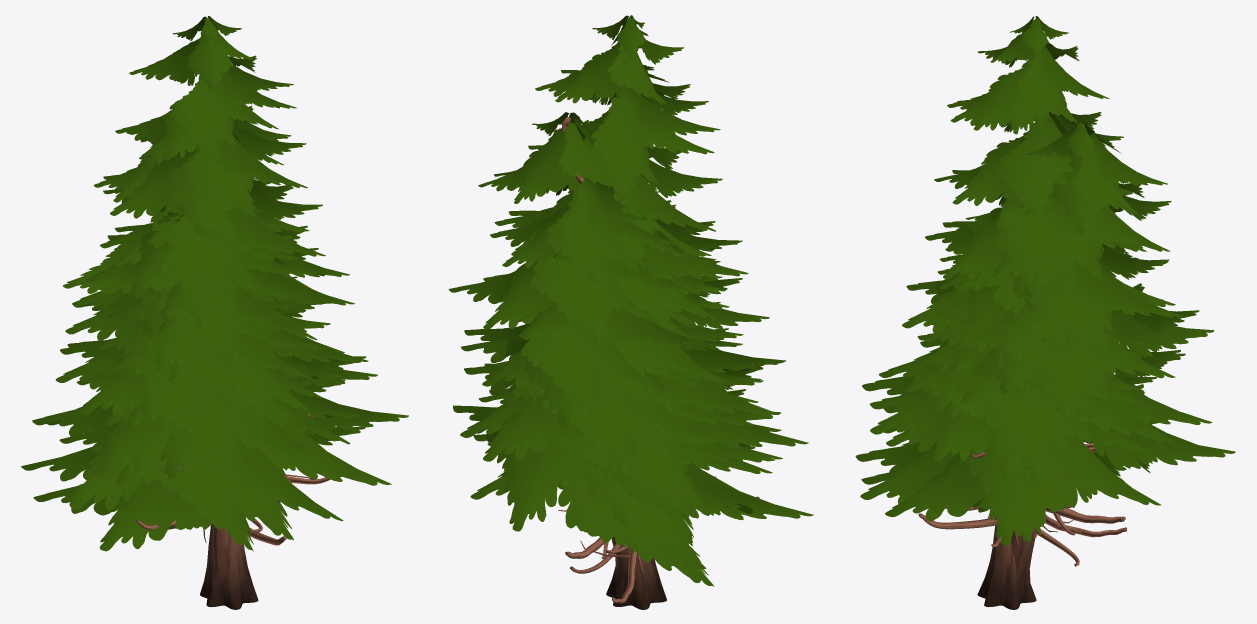
File: megakit-pines.phone.glb
3 renders of one model, left to right at view 1: azimuth 30°, elevation 25°; view 2: azimuth 150°, elevation 25°; view 3: azimuth 270°, elevation 25°, orthographic. The views are drawn at different scales.
Parts seen in each view (by area): view 1: Pine_4, Pine_5, Pine_2, Pine_1, Pine_3; view 2: Pine_5, Pine_4, Pine_2, Pine_1, Pine_3; view 3: Pine_4, Pine_5, Pine_2, Pine_1, Pine_3.
Boxes of the visible parts, <box> form: Pine_4: <box>32,16,368,609</box>; Pine_5: <box>21,90,408,609</box>; Pine_2: <box>33,206,365,551</box>; Pine_1: <box>59,205,345,502</box>; Pine_3: <box>76,212,326,532</box>; Pine_5: <box>448,112,791,609</box>; Pine_4: <box>460,15,808,609</box>; Pine_2: <box>470,179,813,586</box>; Pine_1: <box>487,191,782,558</box>; Pine_3: <box>505,225,758,573</box>; Pine_4: <box>862,16,1185,609</box>; Pine_5: <box>861,119,1235,609</box>; Pine_2: <box>855,203,1161,542</box>; Pine_1: <box>883,198,1157,535</box>; Pine_3: <box>905,246,1145,566</box>.
Size of the model in its own units: 6.42 by 10.24 by 6.31.
2 materials, 2 textured.
